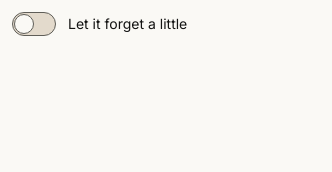
Scenario: Toggle › shows off with an outline and on with a tick, not by colour alone
Click the switch: (34, 24) [12,12,56,36]
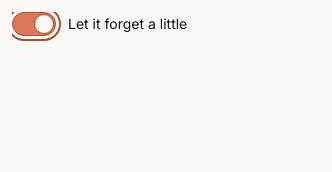
Now the icon is shown, box [38,18,50,30]
